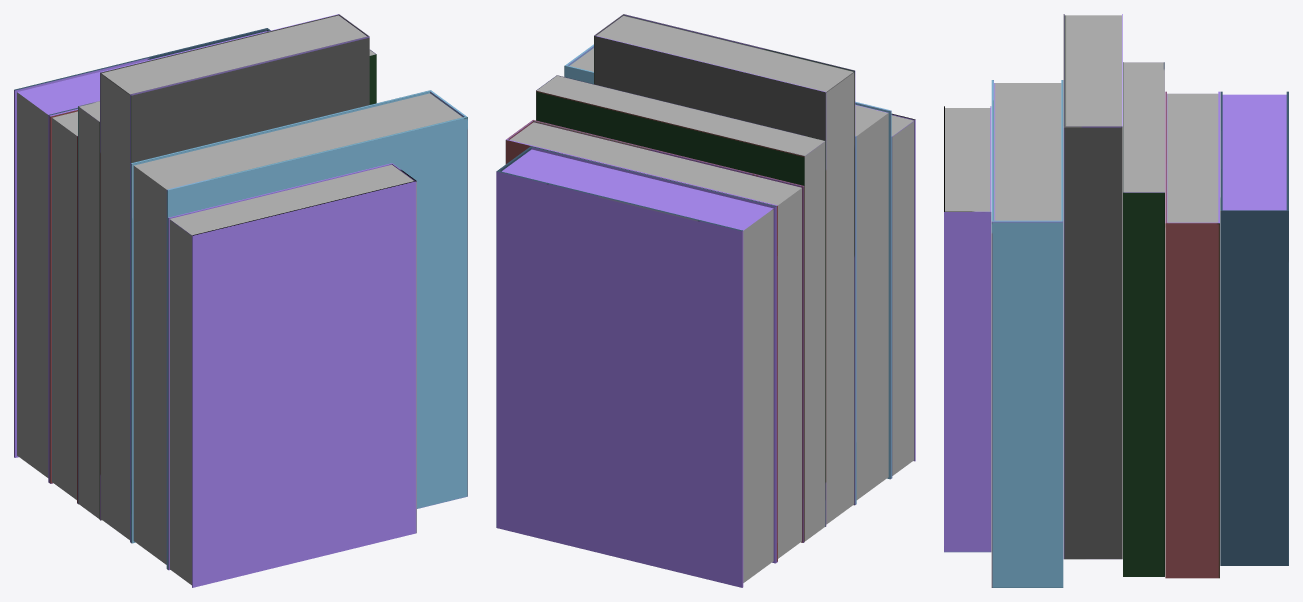
Rendered from books2.fbx.
The picture shows the model from 3 angles, left to right: view 1: azimuth 30°, elevation 25°; view 2: azimuth 150°, elevation 25°; view 3: azimuth 270°, elevation 25°; orthographic projection. The views are drawn at different scales.
Parts seen in each view (by area): view 1: Book5; view 2: Book5; view 3: Book5.
Boxes of the visible parts, left/top/right/bottom form: Book5: left=14, top=14, right=467, bottom=587; Book5: left=496, top=14, right=915, bottom=587; Book5: left=944, top=14, right=1288, bottom=587.
Size of the model in its own units: 19.69 by 28.08 by 20.3.
